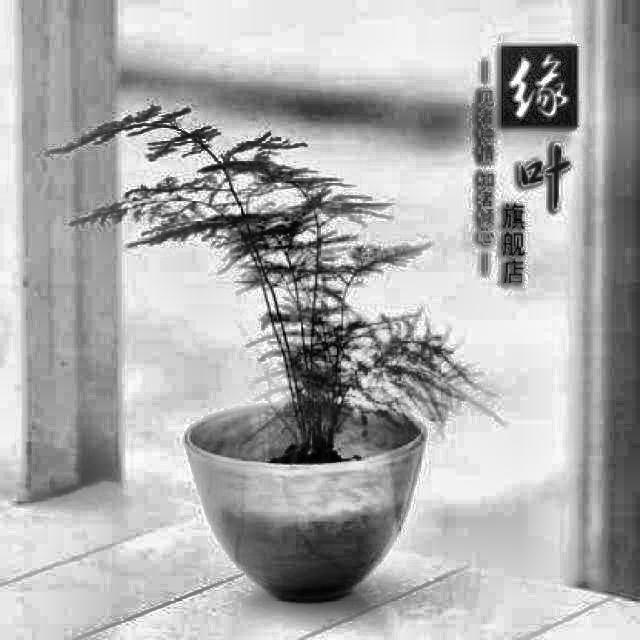plants: (150, 139, 436, 610)
